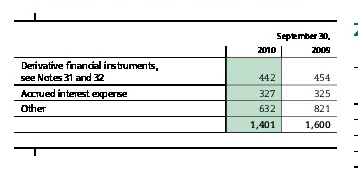table: (0, 0, 358, 170)
